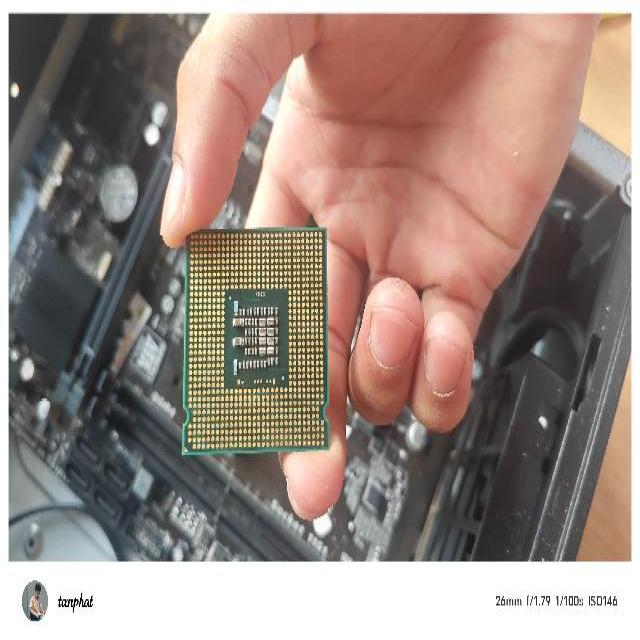CPU: (178, 224, 332, 456)
